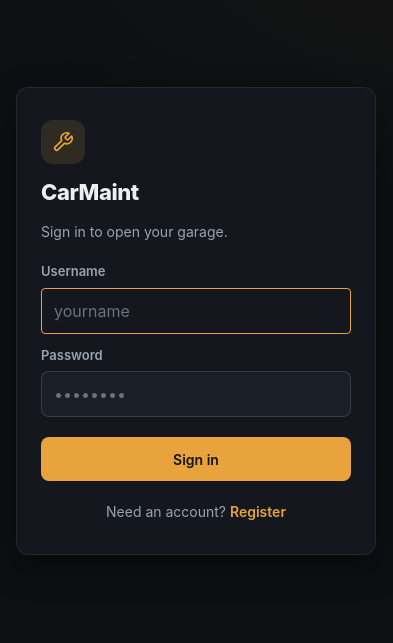
Test: LoginView auth screen › shows the server error on a 409 duplicate registration
Click the button "Register" at {"x": 258, "y": 512}, box [230,501,286,522]
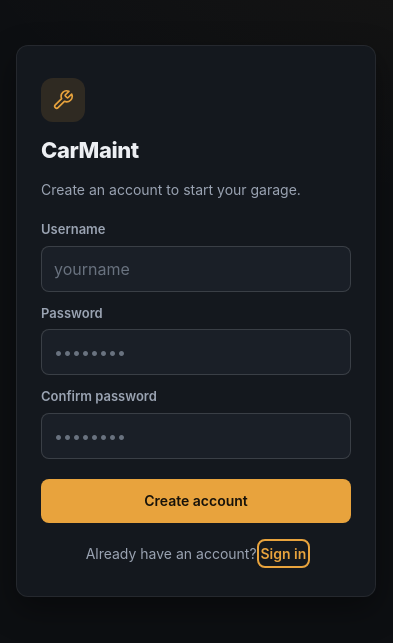
Type "daniel" into the field labelled "Username" at {"x": 196, "y": 269}, box [41,246,351,292]
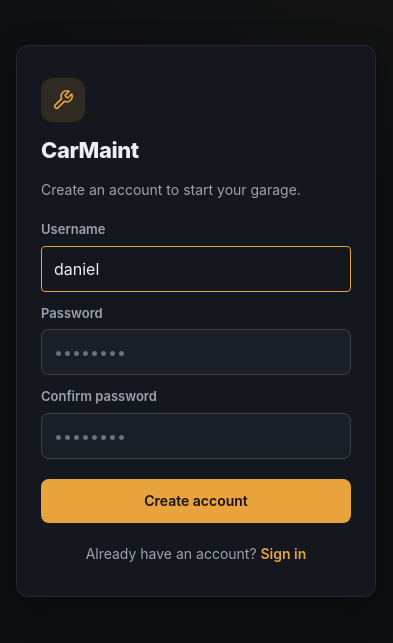
Type "password123" into the password field labelled "Password" at {"x": 196, "y": 352}, box [41,329,351,375]
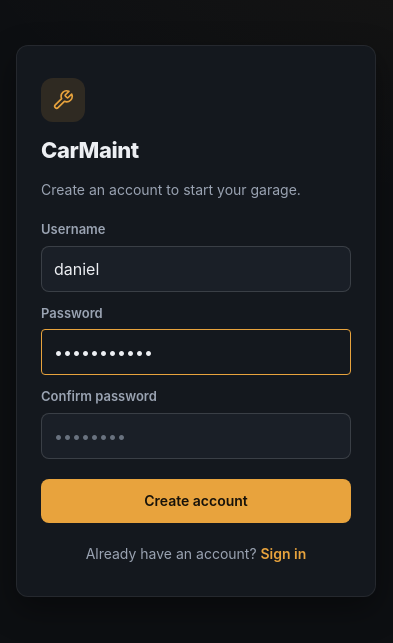
Type "password123" into the password field labelled "Confirm password" at {"x": 196, "y": 436}, box [41,413,351,459]
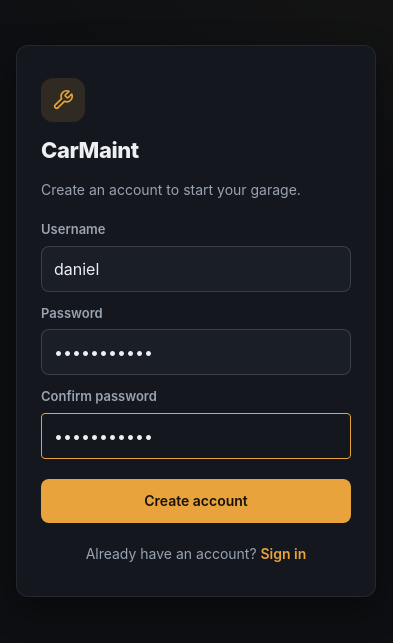
Click the button "Create account" at {"x": 196, "y": 501}, box [41,479,351,523]
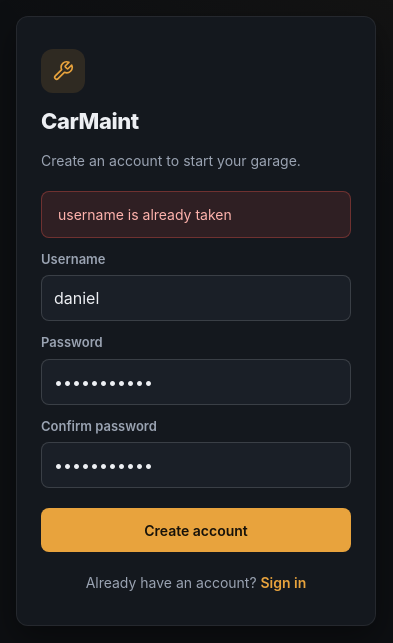
Result: the message reads "username is already taken" at [58,206,232,223]
